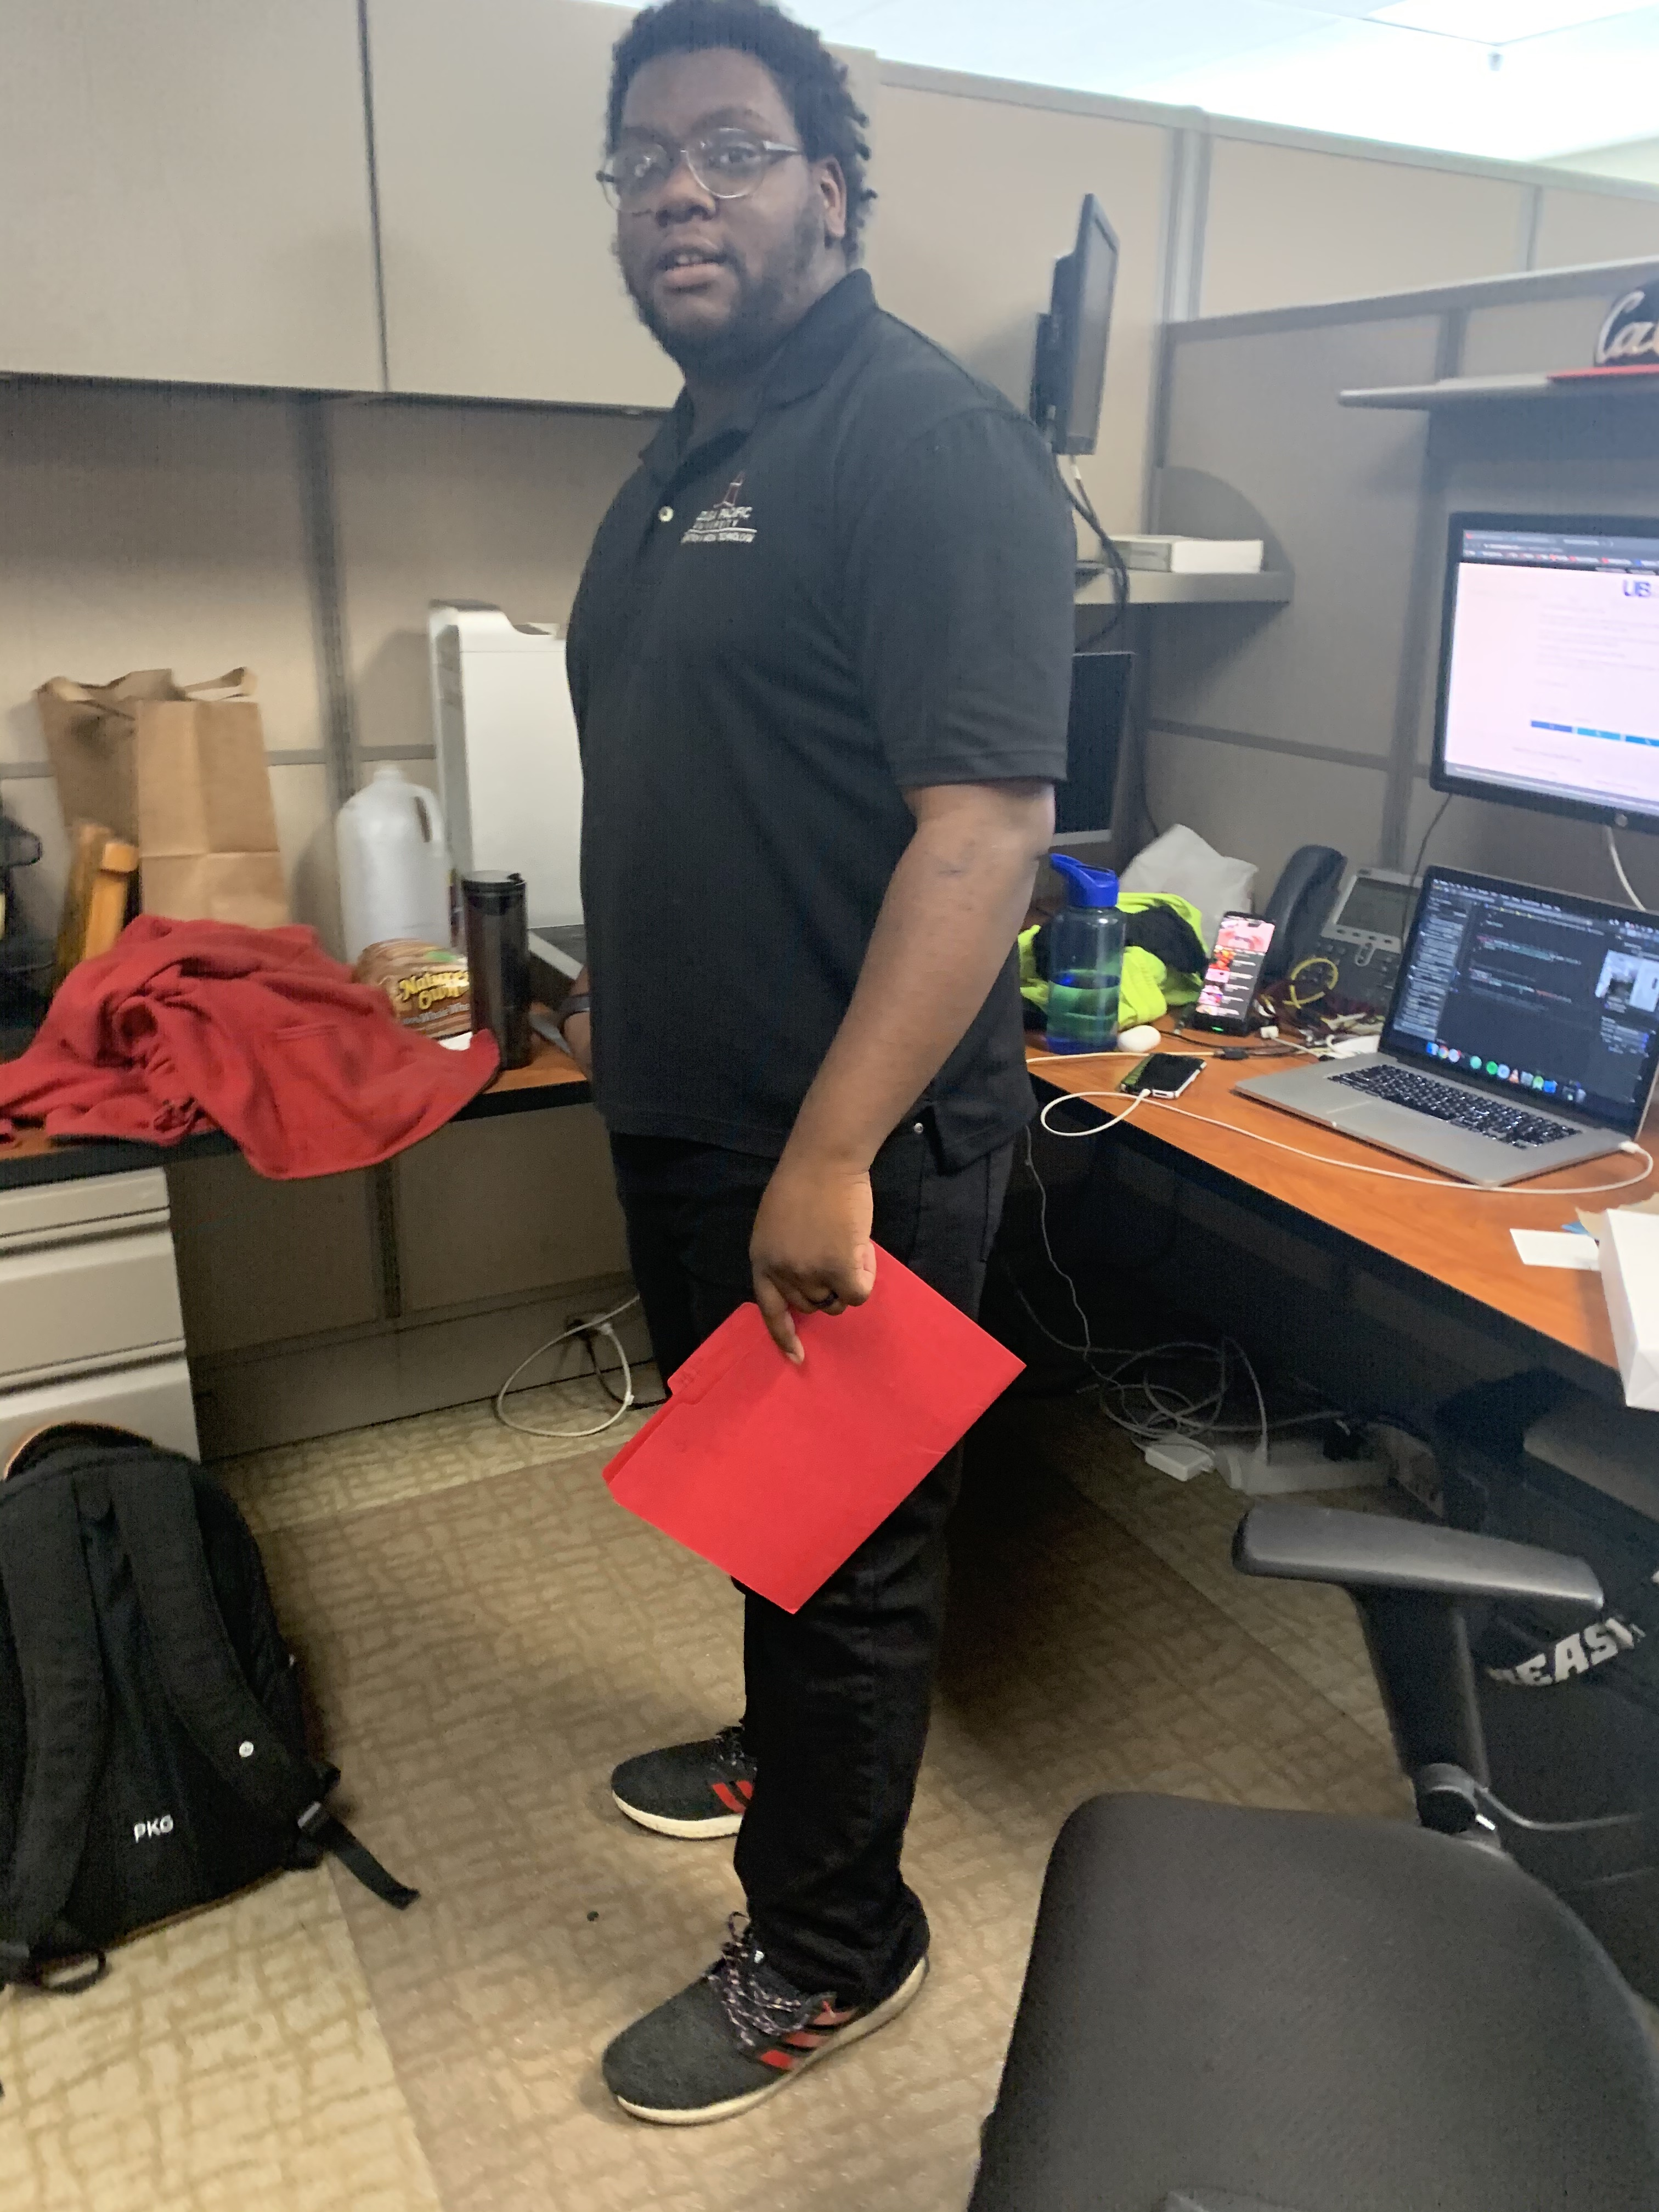red folder: (572, 1221, 1033, 1632)
